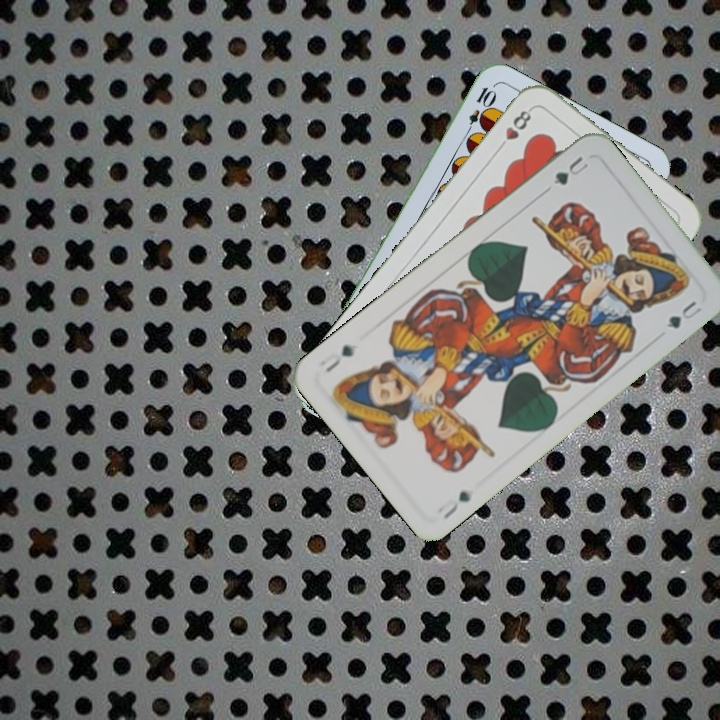E10: (461, 83, 497, 140)
GU: (549, 152, 593, 188), (438, 486, 473, 522)
H8: (493, 104, 535, 154)
